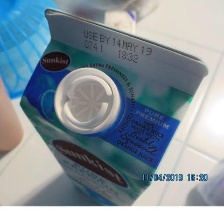carton: (16, 3, 215, 207)
